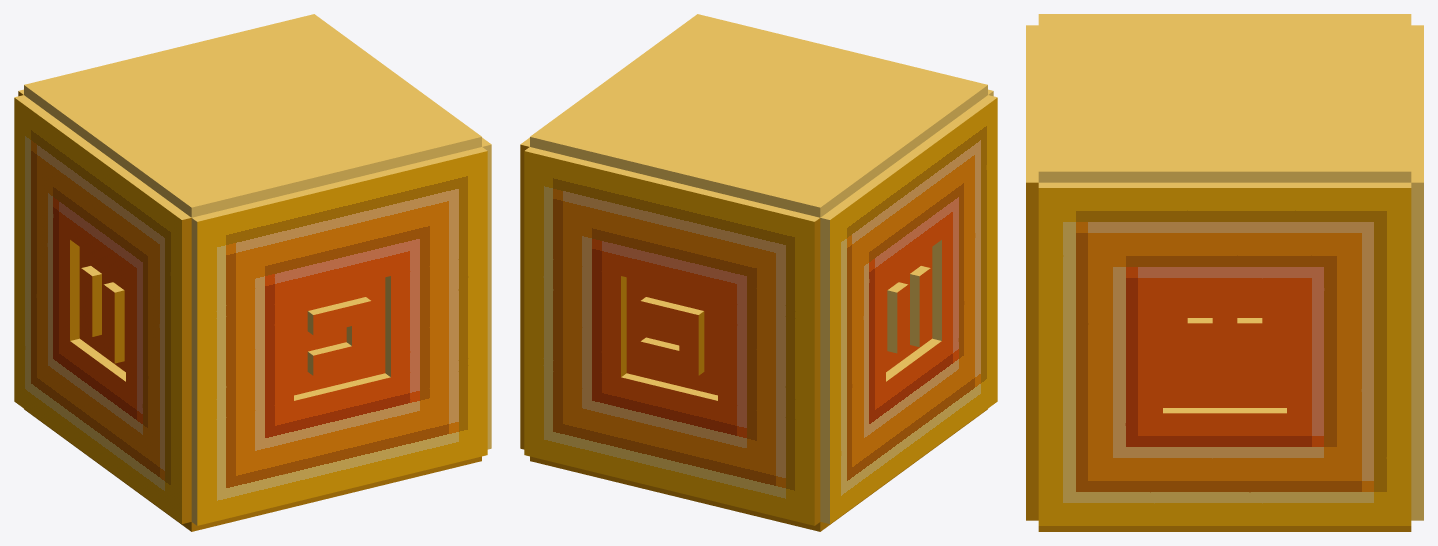
File: orr_sunao.fezao.glb
3 renders of one model, left to right at view 1: azimuth 30°, elevation 25°; view 2: azimuth 150°, elevation 25°; view 3: azimuth 270°, elevation 25°, orthographic. The views are drawn at different scales.
Parts seen in each view (by area): view 1: ORR_SUNAO; view 2: ORR_SUNAO; view 3: ORR_SUNAO.
Part boxes in pixels (x1,y1,x2,y2): ORR_SUNAO: (14,14,491,531); ORR_SUNAO: (520,14,997,531); ORR_SUNAO: (1026,14,1423,531).
Bounding box in the file's own units: 2 × 2 × 2.
1 material, 1 textured.
